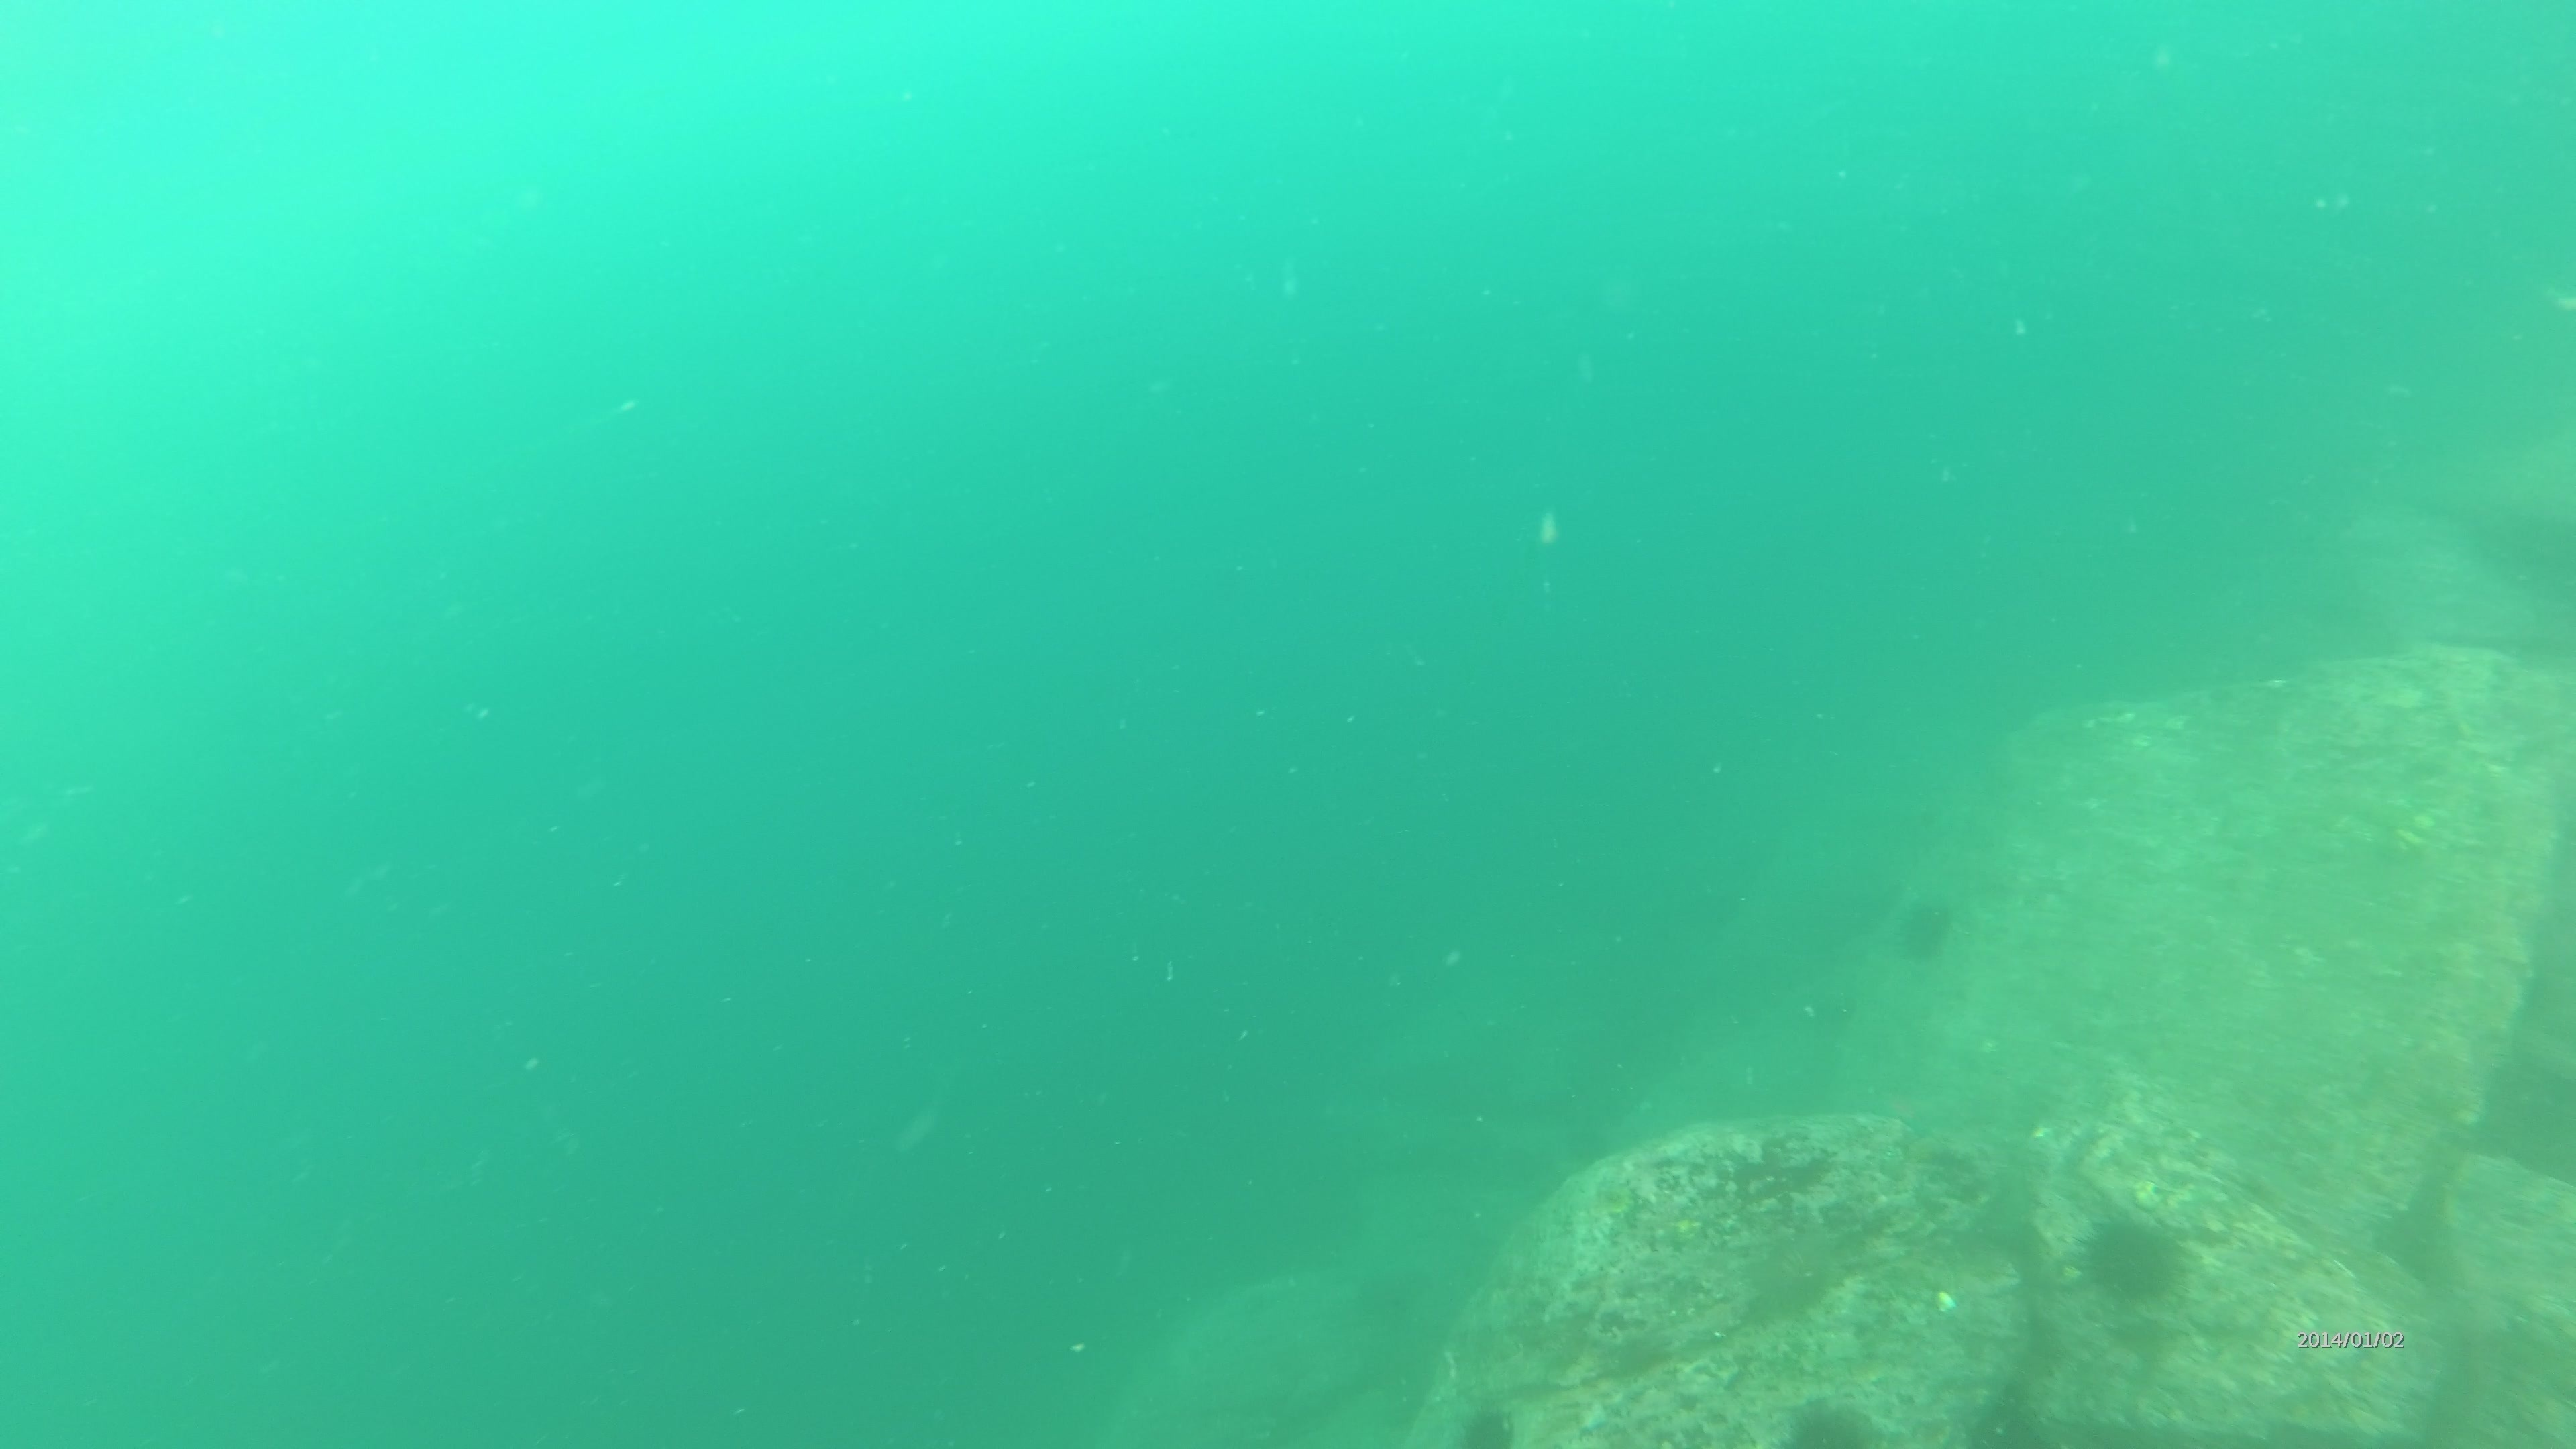echinus: (1734, 1214, 1852, 1327), (2074, 1203, 2192, 1313), (1780, 1391, 1882, 1449), (1888, 888, 1962, 966), (1454, 1396, 1522, 1449)
